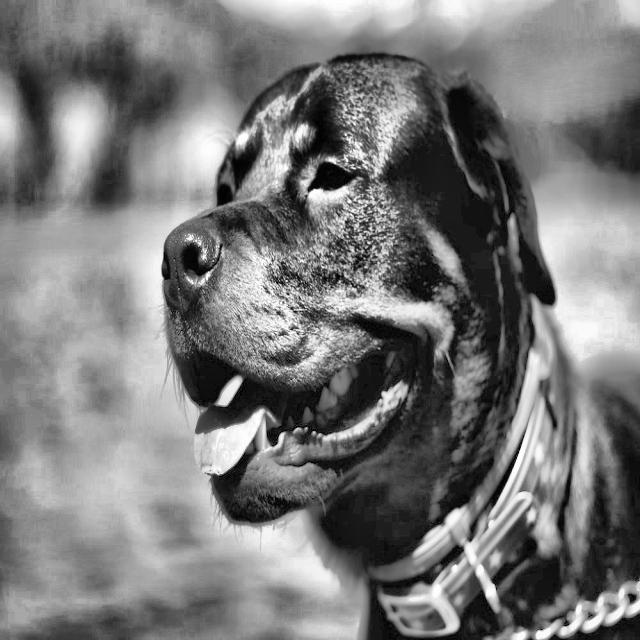rottweiler: (123, 1, 564, 593)
